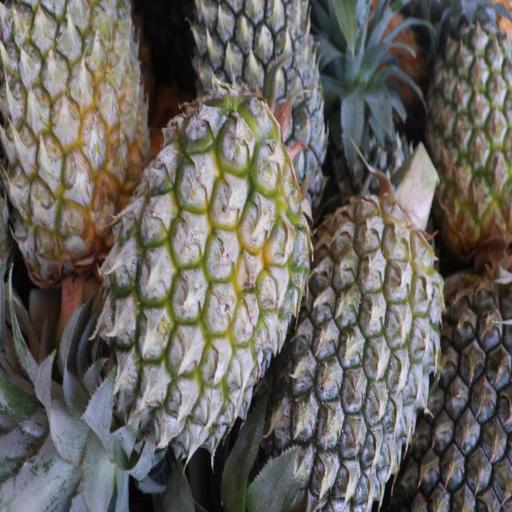------------------------------: (110, 118, 294, 456), (3, 0, 154, 274), (428, 13, 510, 241)
